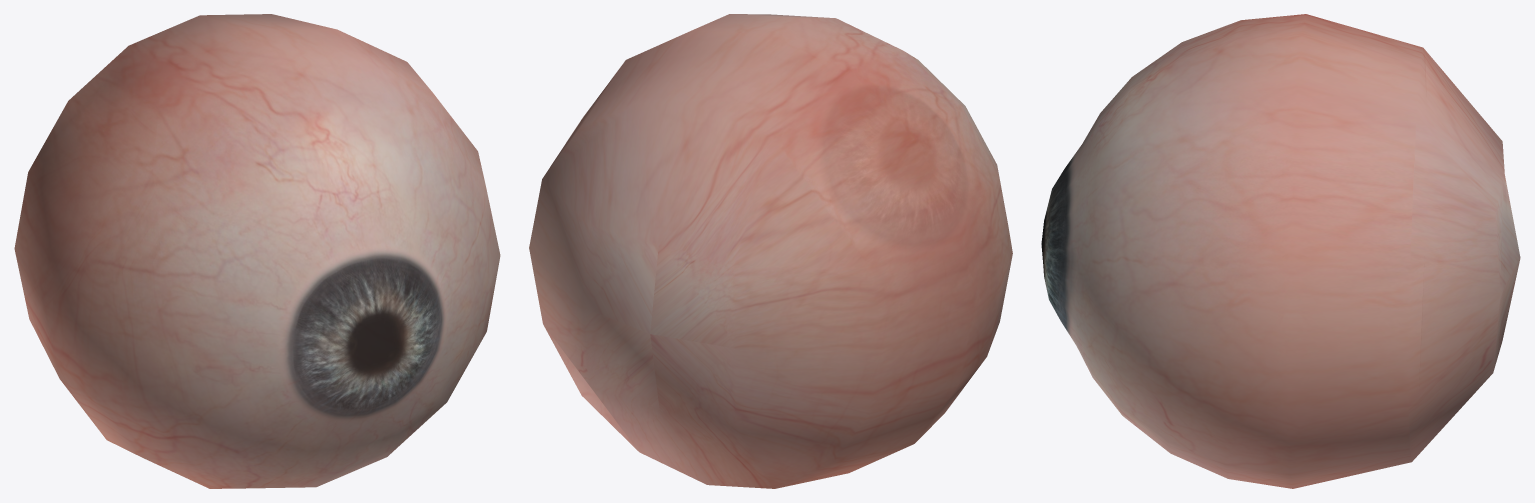
Rendered from Cornea_R.gltf.
3 views of the same model, side by side, from view 1: azimuth 30°, elevation 25°; view 2: azimuth 150°, elevation 25°; view 3: azimuth 270°, elevation 25° (orthographic).
Parts seen in each view (by area): view 1: Cornea_R; view 2: Cornea_R; view 3: Cornea_R.
Part boxes in pixels (left/top/right/bottom): Cornea_R: left=14, top=14, right=500, bottom=488; Cornea_R: left=529, top=14, right=1012, bottom=488; Cornea_R: left=1041, top=14, right=1520, bottom=488.
Bounding box in the file's own units: 0.0331 × 0.0332 × 0.0334.
1 material, 1 textured.
